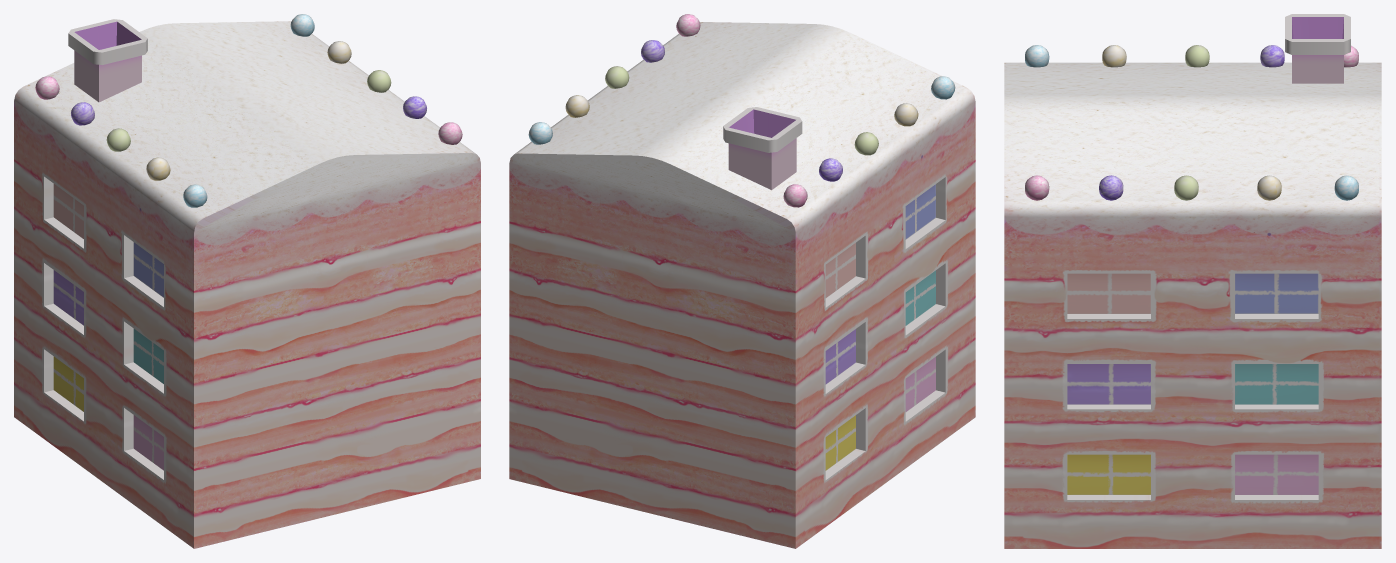
The model's file is OuterWallA.fbx.
3 views of the same model, side by side, from view 1: azimuth 30°, elevation 25°; view 2: azimuth 150°, elevation 25°; view 3: azimuth 270°, elevation 25° (orthographic). The views are drawn at different scales.
Parts seen in each view (by area): view 1: polySurface13; view 2: polySurface13; view 3: polySurface13.
Boxes of the visible parts, x1,y1,x2,y2 form: polySurface13: [14, 14, 480, 548]; polySurface13: [509, 14, 975, 548]; polySurface13: [1004, 14, 1381, 548].
Size of the model in its own units: 7 by 9.05 by 7.61.
